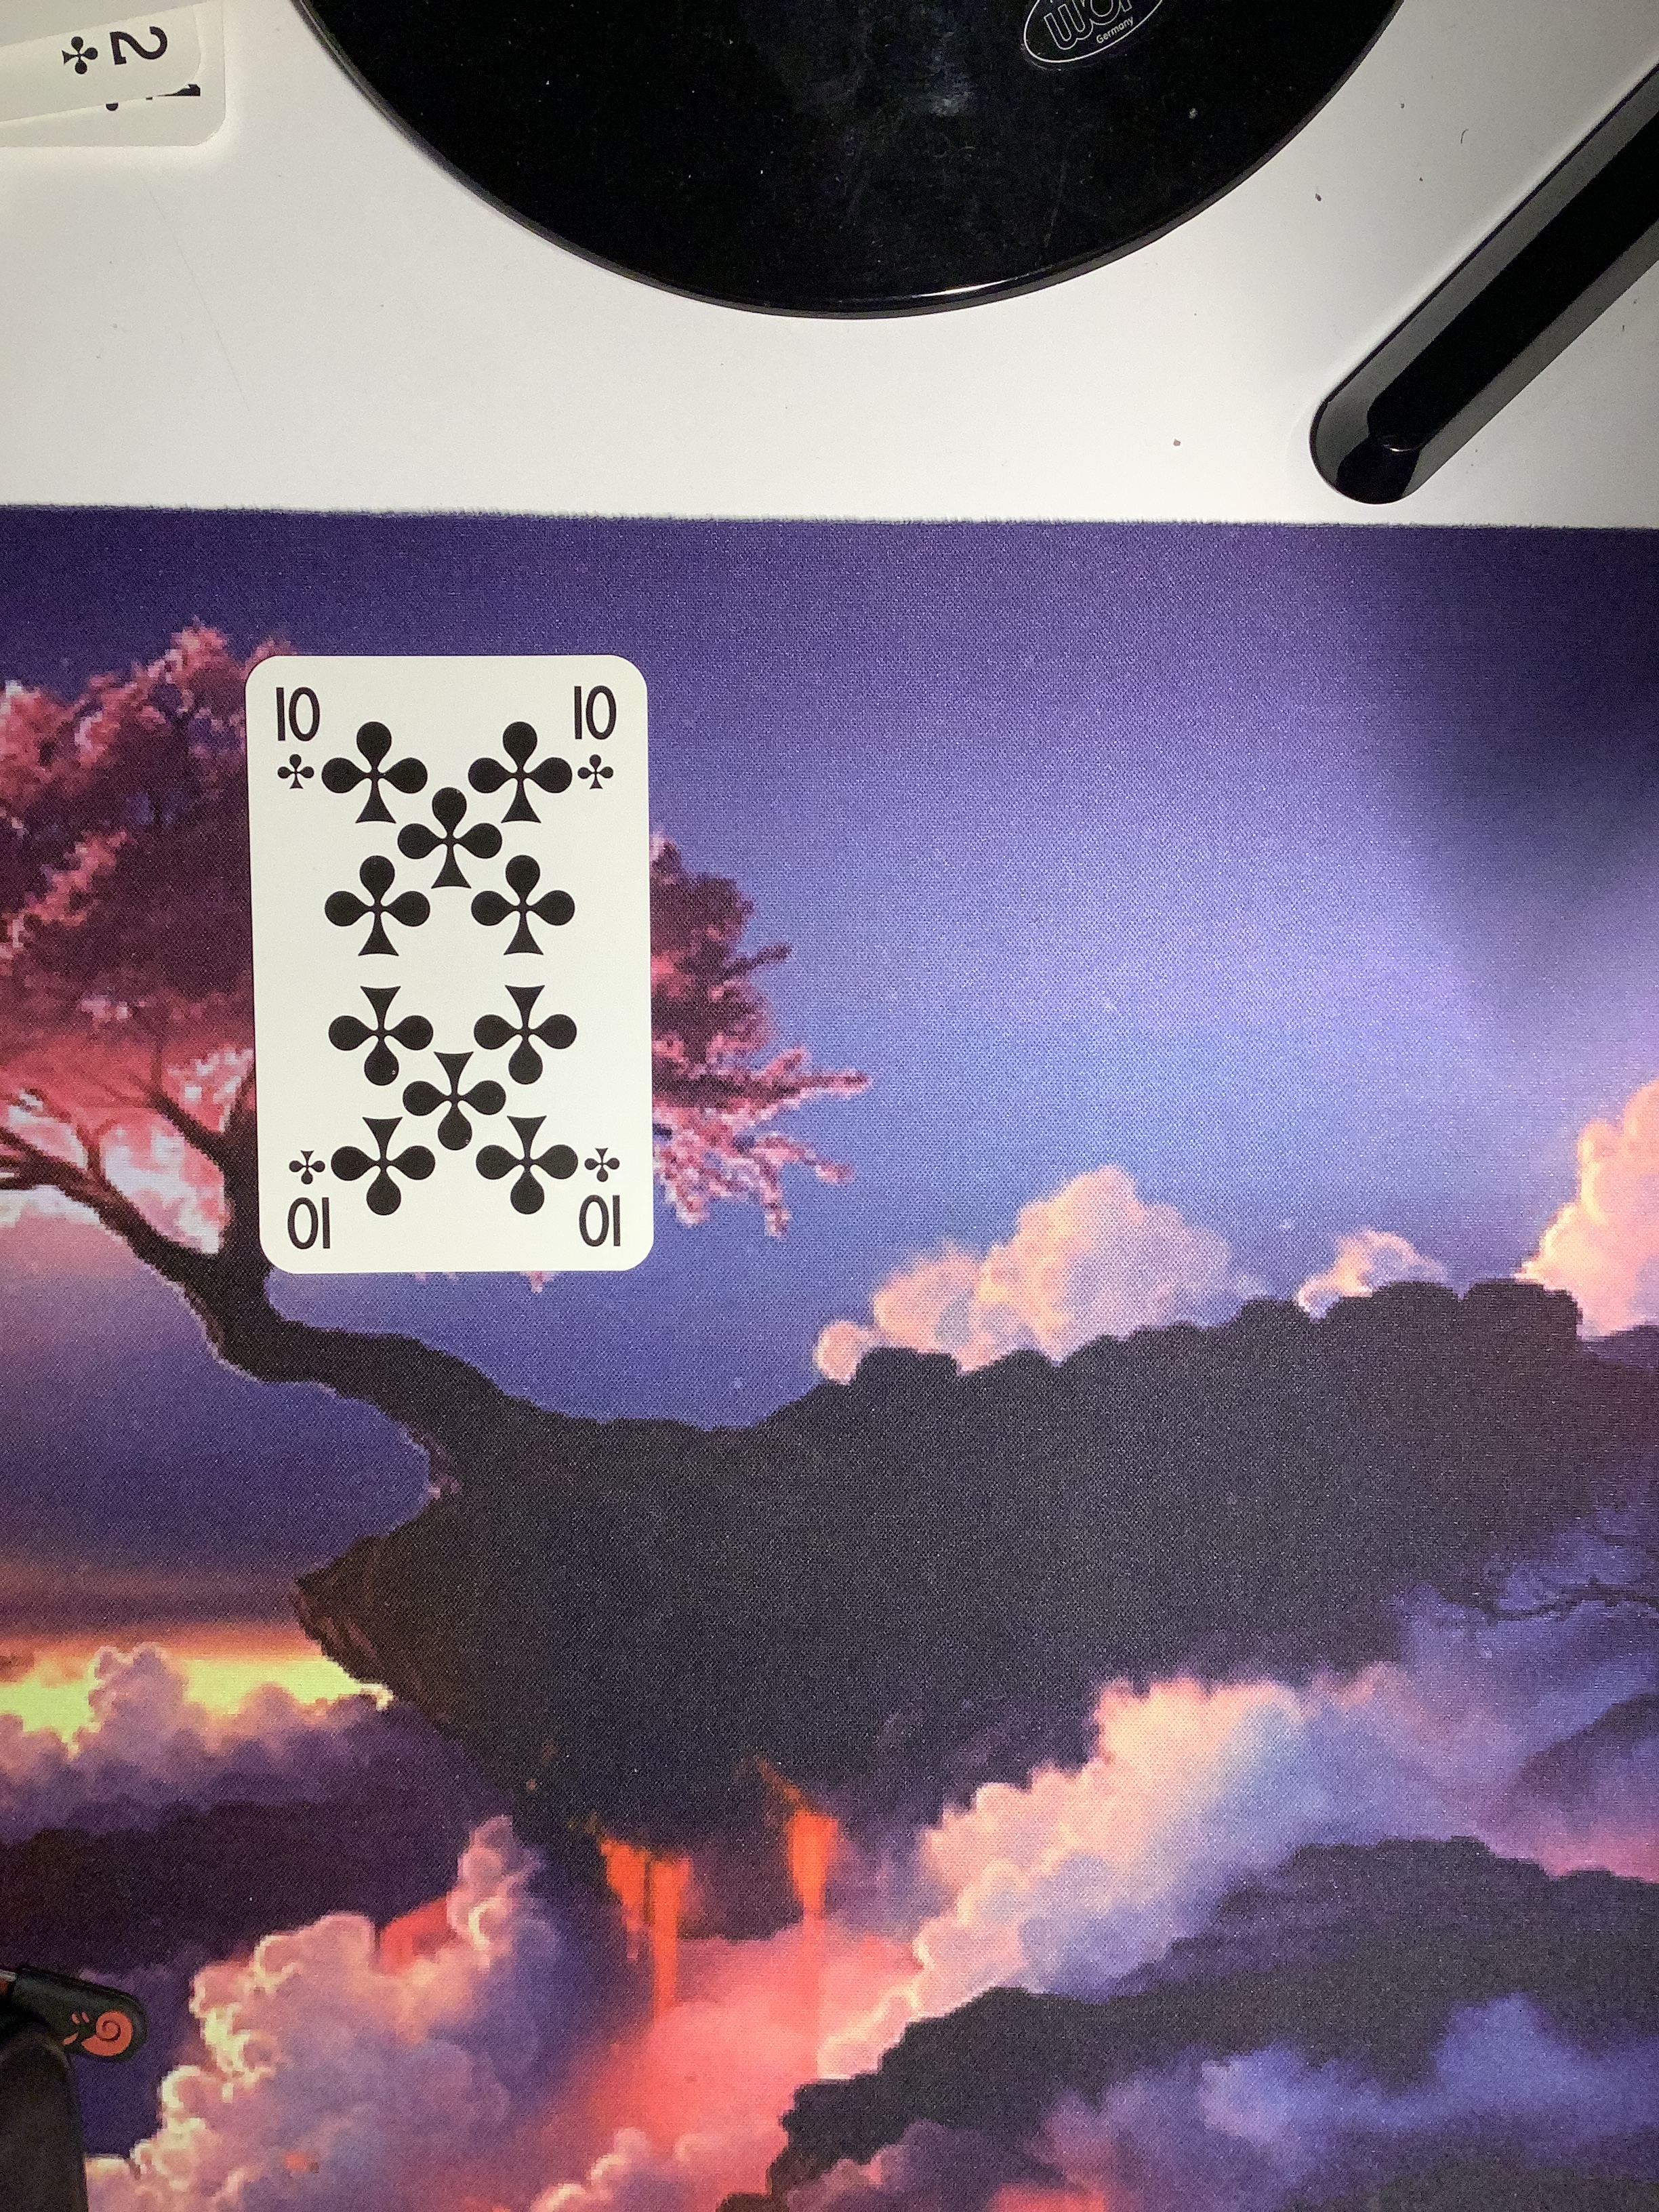♣ 10: (228, 644, 671, 1292)
